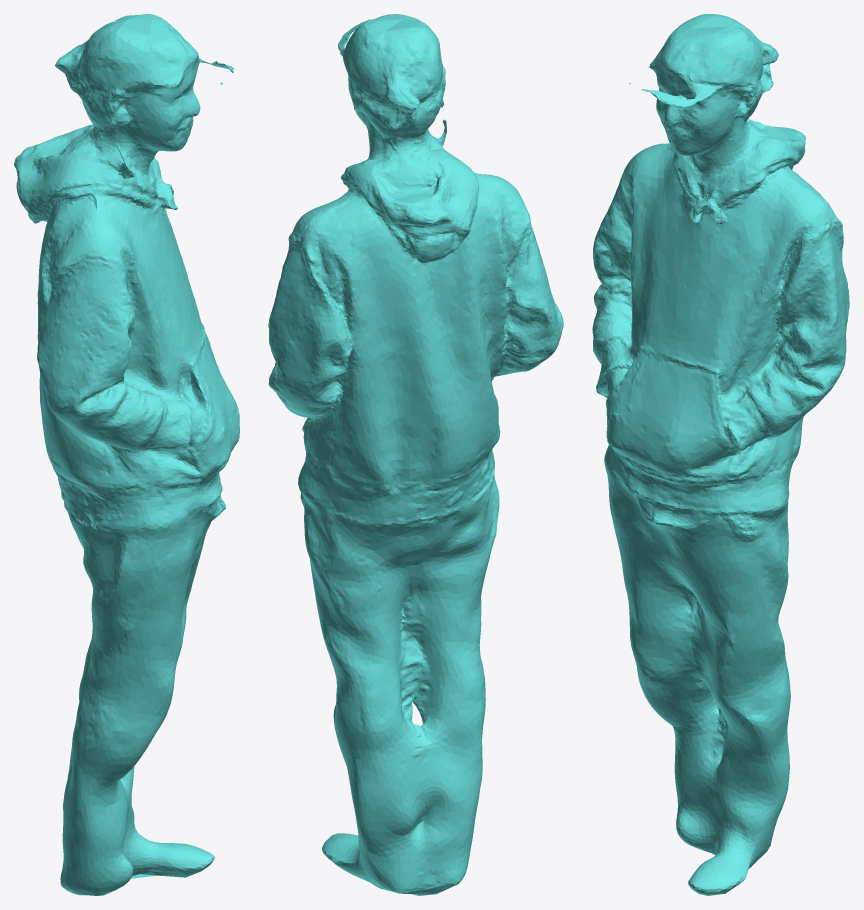
Rendered from mystyle.glb.
The picture shows the model from 3 angles, left to right: view 1: azimuth 30°, elevation 25°; view 2: azimuth 150°, elevation 25°; view 3: azimuth 270°, elevation 25°; orthographic projection.
Visible parts, largest first — view 1: Me; view 2: Me; view 3: Me.
Boxes of the visible parts, x1,y1,x2,y2 form: Me: [14, 14, 239, 895]; Me: [268, 14, 563, 895]; Me: [592, 14, 849, 895].
Bounding box in the file's own units: 0.6941 × 2.58 × 0.7083.
